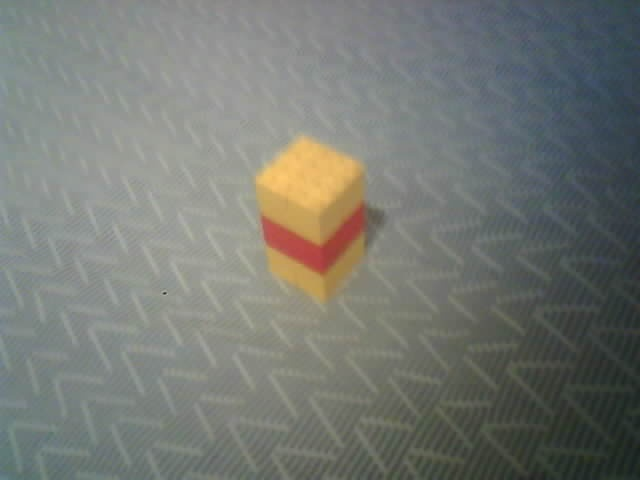lego: (253, 134, 367, 306)
